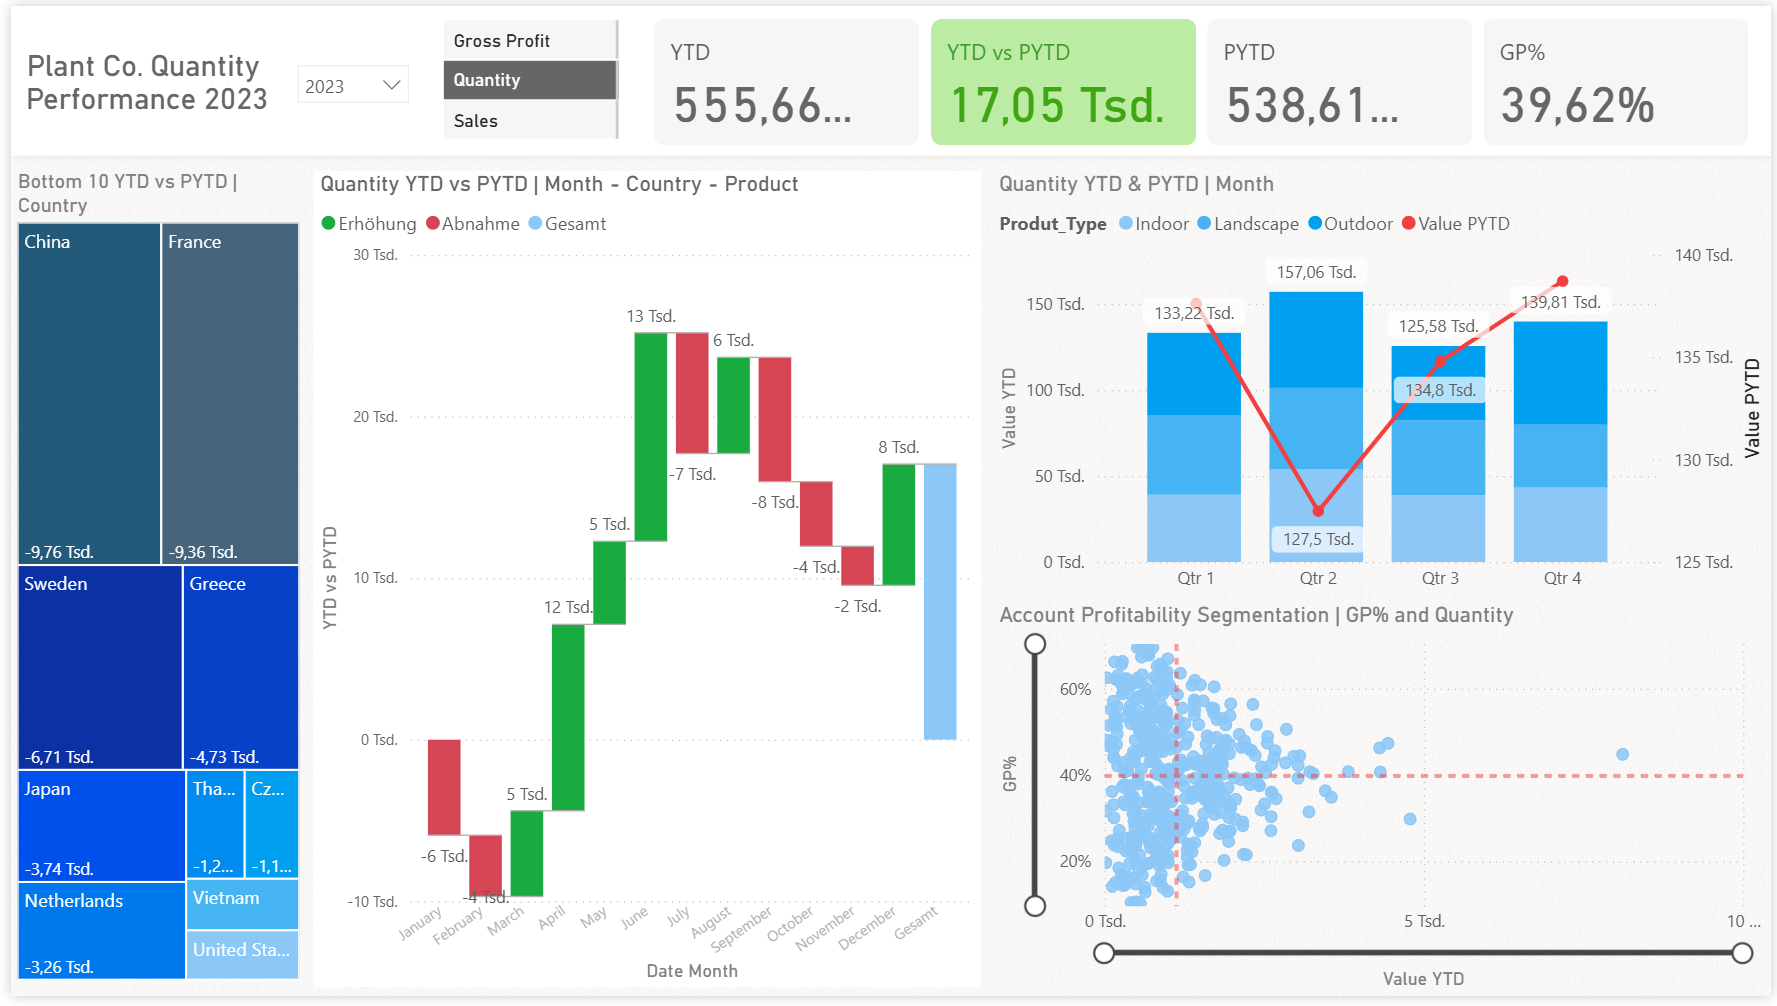

What the dashboard file says about the page in this screenshot:
{"tool":"powerbi","page":{"name":"Performance Report","canvas":[1280,720],"ordinal":0},"visuals":[{"type":"cardVisual","fields":{"Data":["_Measures.S_YTD","_Measures.YTD vs PYTD","_Measures.S_PYTD","_Measures.GP%"]},"box":[463,4.2,806.2,102.1],"z":0},{"type":"advancedSlicerVisual","fields":{"Values":["Slc_Values.Values"]},"box":[309.8,5.9,137.3,98],"z":1000},{"type":"slicer","fields":{"Values":["Dim_Date.Date.Variation.Date Hierarchy.Year"]},"box":[198.4,32.7,101.3,50.2],"z":2000},{"type":"treemap","title":"Bottom 10 YTD vs PYTD | Country","fields":{"Values":["_Measures.YTD vs PYTD"],"Group":["Dim_Account.country"]},"box":[0,119.3,214.8,594.2],"z":3000},{"type":"waterfallChart","fields":{"Y":["_Measures.YTD vs PYTD"],"Category":["Dim_Date.Date.Variation.Date Hierarchy.Month","Dim_Account.country","Dim_Product.Produt_Type","Dim_Product.Product_Name"]},"box":[220.3,119.6,485.2,593.5],"z":4000},{"type":"lineStackedColumnComboChart","fields":{"Y":["_Measures.S_YTD"],"Y2":["_Measures.S_PYTD"],"Category":["Dim_Date.Date.Variation.Date Hierarchy.Quarter","Dim_Date.Date.Variation.Date Hierarchy.Month"],"Series":["Dim_Product.Produt_Type"]},"box":[714.1,119.6,565.9,314.3],"z":5000},{"type":"scatterChart","fields":{"Y":["_Measures.GP%"],"X":["_Measures.S_YTD"],"Category":["Dim_Account.Account"]},"box":[714.1,433.9,565.9,285.8],"z":6000},{"type":"card","fields":{"Values":["_Measures._Report title"]},"box":[0,20.9,198.5,68.4],"z":7000}]}

Visuals, with their boxes in screenshot pixels (x1, y1, x2, y2), scaled from the page's 1280x720 canvas onto the 1777x1006 screenshot:
cardVisual - _Measures.S_YTD x _Measures.YTD vs PYTD: [643,6,1762,149]
advancedSlicerVisual - Slc_Values.Values: [430,8,621,145]
slicer - Dim_Date.Date.Variation.Date Hierarchy.Year: [275,46,416,116]
"Bottom 10 YTD vs PYTD | Country" treemap: [0,167,298,997]
waterfallChart - _Measures.YTD vs PYTD x Dim_Date.Date.Variation.Date Hierarchy.Month: [306,167,979,996]
lineStackedColumnComboChart - _Measures.S_YTD x _Measures.S_PYTD: [991,167,1776,606]
scatterChart - _Measures.GP% x _Measures.S_YTD: [991,606,1776,1005]
card - _Measures._Report title: [0,29,276,125]
